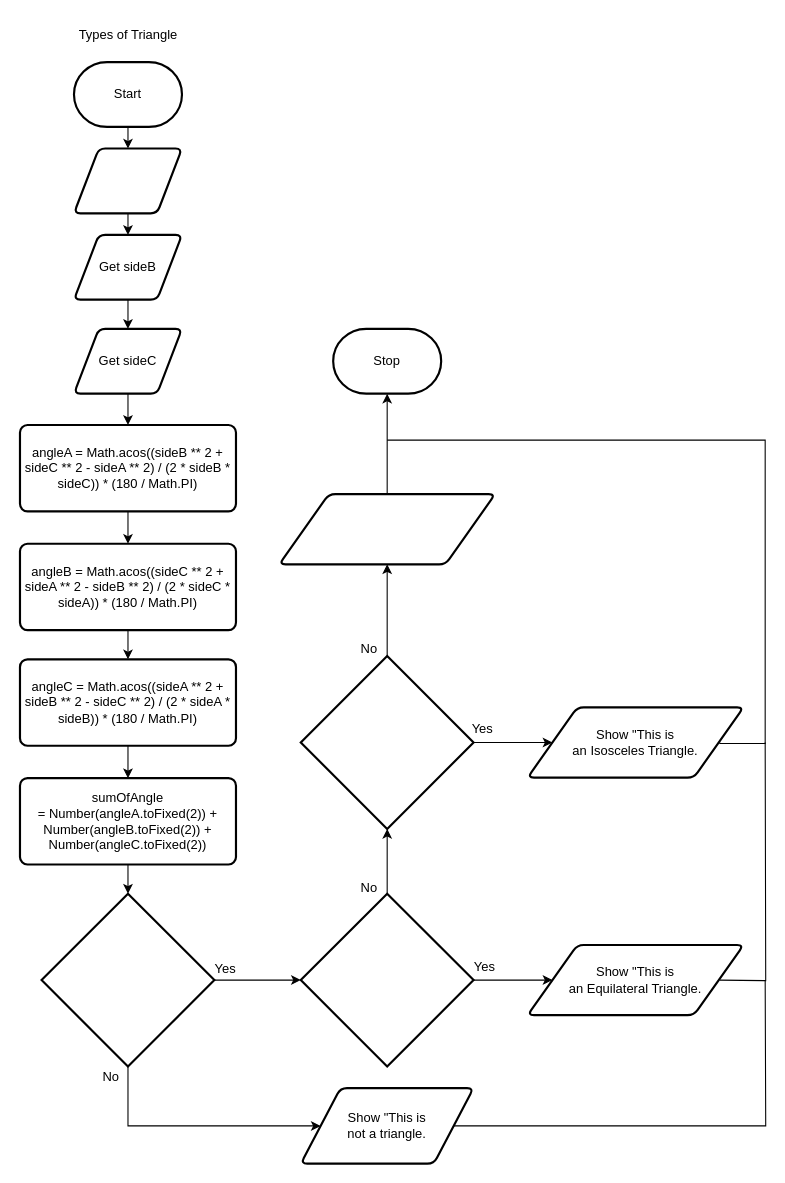
The diagram is 785 pixels wide and 1183 high, and some of its shapes have lost their labels. The centre of each missing label's shape, as x and y in pixels:
Get sideA: point 127,180
If sideA === sideB && sideA === sideC && sideB === sideC: point 386,979
If sideA === sideB || sideA === sideC || sideB === sideC: point 386,741
If sumOfAngles === 180: point 127,979
Show "This is an Scalene Triangle.: point 387,528
